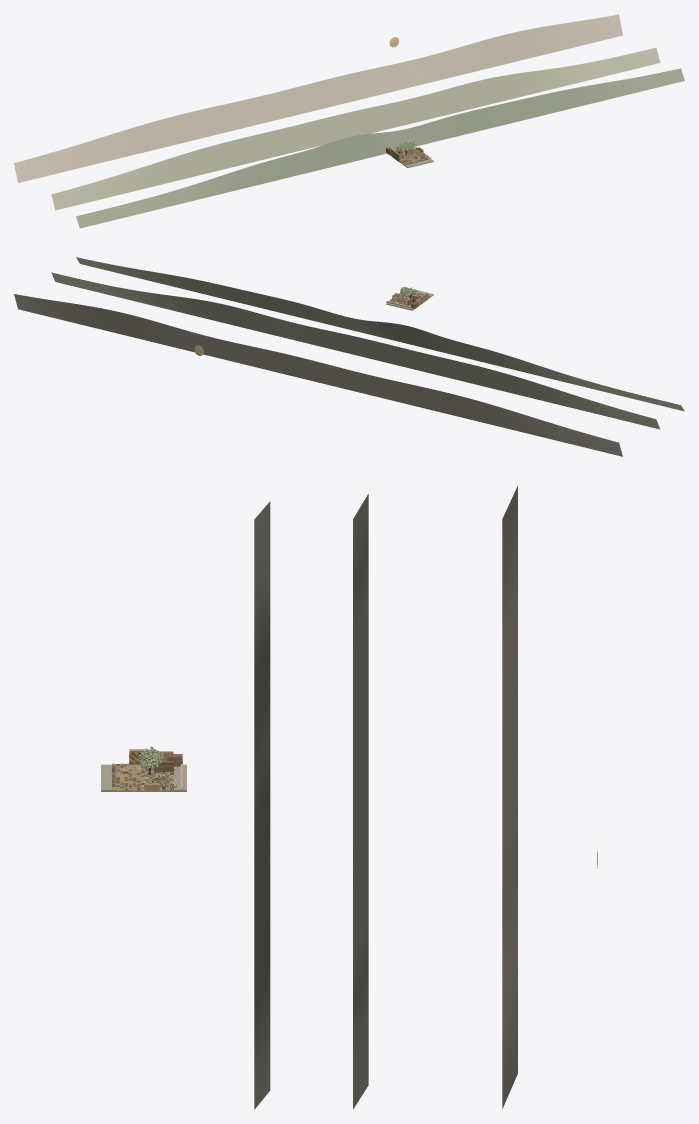
The model's file is URAI_WORLD001_FOUNDER_HOME_ARCHITECTURE_v3.glb.
3 views of the same model, one above another, from view 1: azimuth 30°, elevation 25°; view 2: azimuth 150°, elevation 25°; view 3: azimuth 270°, elevation 25° (orthographic). The views are drawn at different scales.
Parts seen in each view (by area): view 1: landscape.ridge.far, landscape.ridge.mid, landscape.ridge.near; view 2: landscape.ridge.far, landscape.ridge.mid, landscape.ridge.near; view 3: landscape.ridge.near, landscape.ridge.mid, landscape.ridge.far, terrain.terrace.base.
Boxes of the visible parts, box(x1,y1,x2,y2) form: landscape.ridge.far: box(14, 14, 622, 182); landscape.ridge.mid: box(51, 47, 660, 210); landscape.ridge.near: box(76, 68, 684, 228); landscape.ridge.far: box(14, 294, 622, 456); landscape.ridge.mid: box(51, 272, 660, 429); landscape.ridge.near: box(76, 257, 684, 411); landscape.ridge.near: box(254, 501, 270, 1109); landscape.ridge.mid: box(353, 494, 368, 1109); landscape.ridge.far: box(502, 486, 517, 1108); terrain.terrace.base: box(101, 764, 186, 791).
Bounding box in the file's own units: 440 × 21.59 × 156.
Materials: 25 (6 with a texture image).
